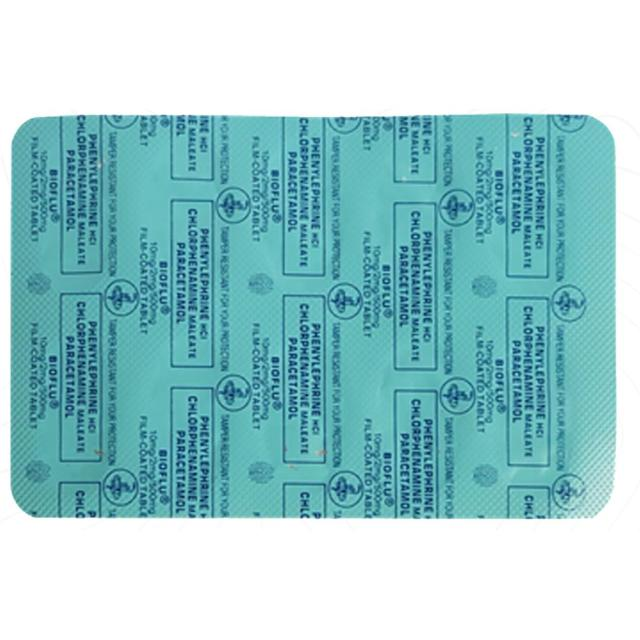blister: (8, 109, 624, 526)
